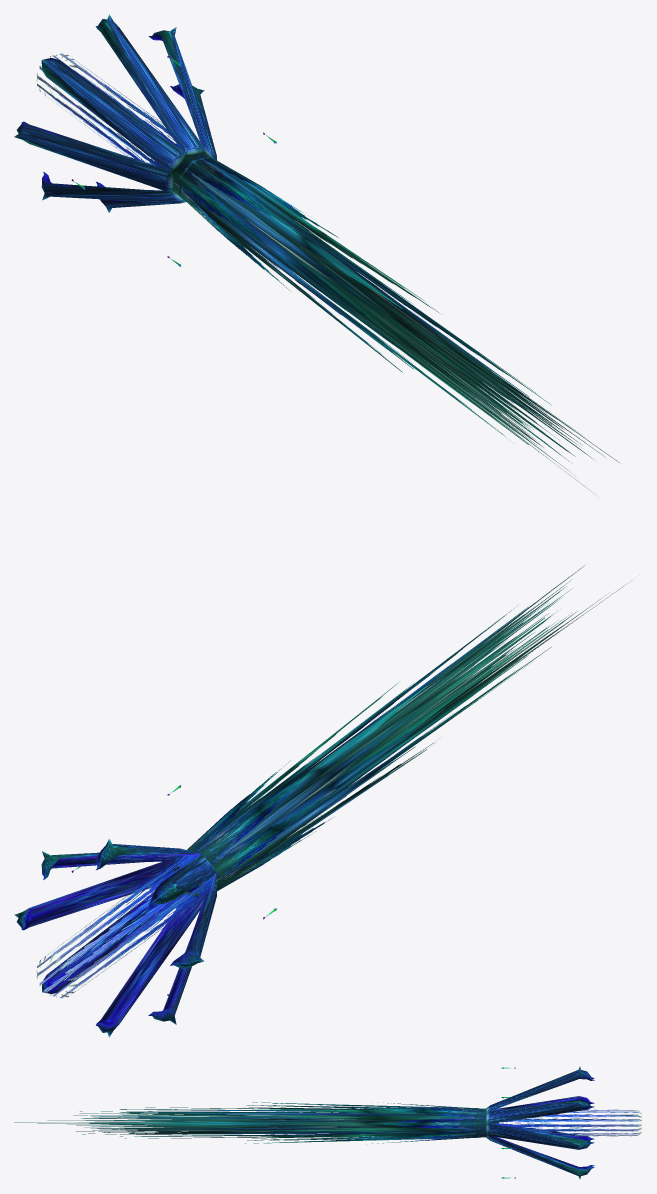
The picture shows the model from 3 angles, top to bottom: view 1: azimuth 30°, elevation 25°; view 2: azimuth 150°, elevation 25°; view 3: azimuth 270°, elevation 25°; orthographic projection. The views are drawn at different scales.
Visible parts, largest first — view 1: frame_0; view 2: frame_0; view 3: frame_0.
Boxes of the visible parts, bbox=[...] form: frame_0: bbox=[14, 14, 619, 491]; frame_0: bbox=[14, 565, 627, 1037]; frame_0: bbox=[14, 1066, 641, 1179].
Bounding box in the file's own units: 4.05 × 4.05 × 20.72.
1 material, 1 textured.
